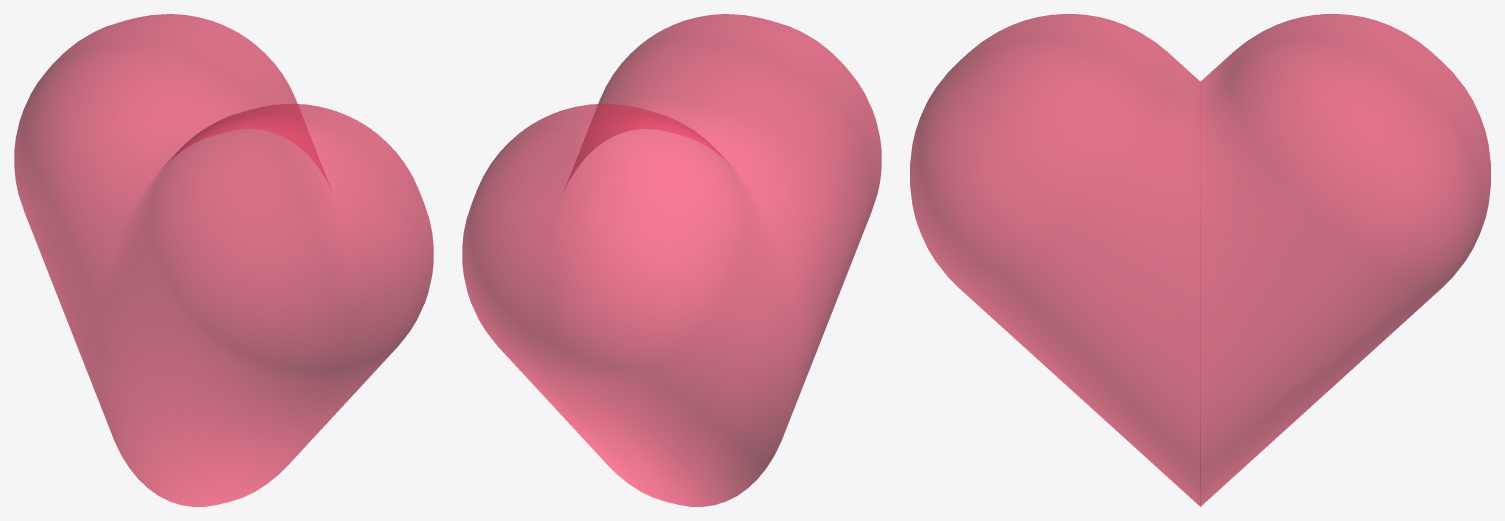
The model's file is heart.glb.
3 renders of one model, left to right at view 1: azimuth 30°, elevation 25°; view 2: azimuth 150°, elevation 25°; view 3: azimuth 270°, elevation 25°, orthographic. The views are drawn at different scales.
Parts seen in each view (by area): view 1: Cube_0; view 2: Cube_0; view 3: Cube_0.
Boxes of the visible parts, box(x1,y1,x2,y2) form: Cube_0: box(14, 14, 433, 506); Cube_0: box(462, 14, 881, 506); Cube_0: box(910, 14, 1490, 506).
Bounding box in the file's own units: 2 × 3.28 × 3.74.
